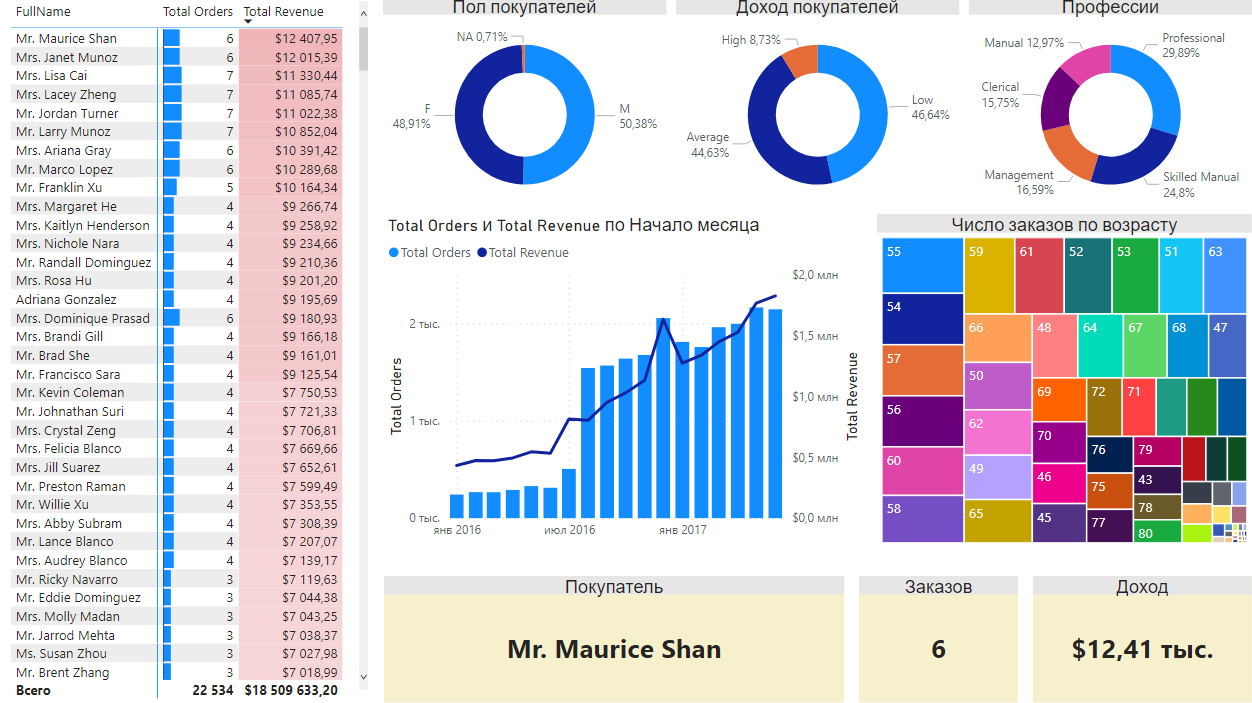

This screenshot's page, from the dashboard's own definition file:
{"tool":"powerbi","page":{"name":"Покупатели","canvas":[1280,720],"ordinal":2},"visuals":[{"type":"pivotTable","fields":{"Values":["AW_Sales.Total Orders","AW_Sales.Total Revenue"],"Rows":["AW_Customers_Lookup.FullName"]},"box":[10.1,0,374.2,720.6],"z":0},{"type":"donutChart","title":"Пол покупателей","fields":{"Category":["AW_Customers_Lookup.Gender"],"Y":["AW_Sales.OrderQuantity"]},"box":[394.3,0,288.5,223],"z":1000},{"type":"donutChart","title":"Доход покупателей","fields":{"Category":["AW_Customers_Lookup.Income"],"Y":["AW_Customers_Lookup.Gender"]},"box":[692.9,0,288.5,223],"z":2000},{"type":"donutChart","title":"Профессии","fields":{"Y":["AW_Customers_Lookup.Gender"],"Category":["AW_Customers_Lookup.Occupation"]},"box":[991.5,0,288.5,223],"z":3000},{"type":"lineClusteredColumnComboChart","fields":{"Y":["AW_Sales.Total Orders"],"Y2":["AW_Sales.Total Revenue"],"Category":["AW_Calendar_Lookup.Начало месяца"]},"box":[394.7,222.6,489.8,339.6],"z":4000},{"type":"treemap","title":"Число заказов по возрасту","fields":{"Group":["AW_Customers_Lookup.Current Age"],"Values":["AW_Sales.Total Orders"]},"box":[897.9,222.6,382.4,339.6],"z":5000},{"type":"card","title":"Покупатель","fields":{"Values":["AW_Customers_Lookup.FullName"]},"box":[395.9,591.2,469.1,129],"z":6000},{"type":"card","title":"Заказов","fields":{"Values":["AW_Sales.Total Orders"]},"box":[879.8,591.2,162.2,129],"z":7000},{"type":"card","title":"Доход","fields":{"Values":["AW_Sales.Total Revenue"]},"box":[1056.8,591.2,223.2,129],"z":8000}]}

Visuals, with their boxes in screenshot pixels (x1, y1, x2, y2), scaled from the page's 1280x720 canvas onto the 1252x703 screenshot:
pivotTable - AW_Sales.Total Orders x AW_Sales.Total Revenue: 10,0,376,702
"Пол покупателей" donutChart: 386,0,668,218
"Доход покупателей" donutChart: 678,0,960,218
"Профессии" donutChart: 970,0,1251,218
lineClusteredColumnComboChart - AW_Sales.Total Orders x AW_Sales.Total Revenue: 386,217,865,549
"Число заказов по возрасту" treemap: 878,217,1251,549
"Покупатель" card: 387,577,846,702
"Заказов" card: 861,577,1019,702
"Доход" card: 1034,577,1251,702
